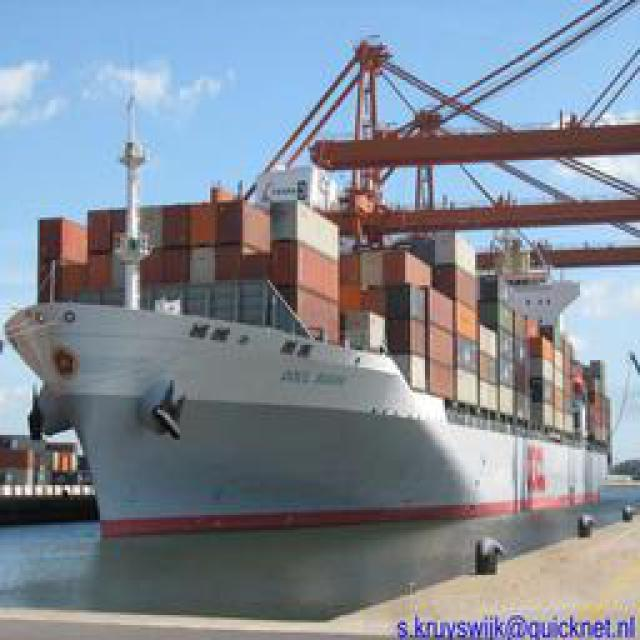Ship: (14, 37, 640, 547)
